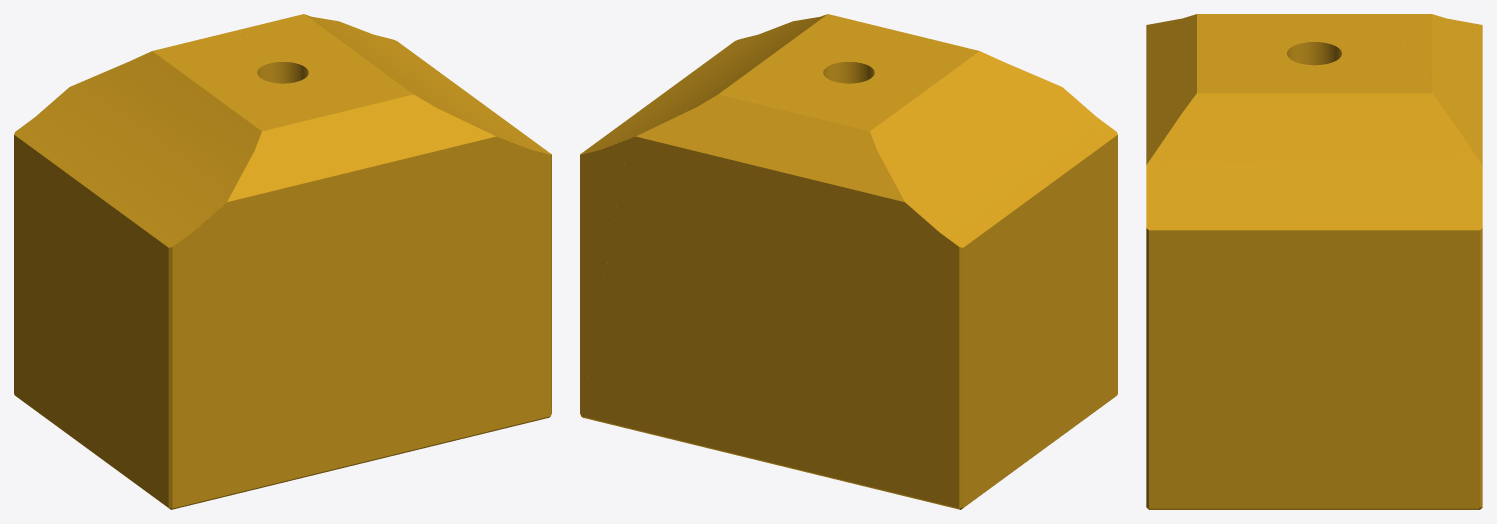
Rendered from takoz-rammer-g80-side-buffer-pu-02.glb.
The picture shows the model from 3 angles, left to right: view 1: azimuth 30°, elevation 25°; view 2: azimuth 150°, elevation 25°; view 3: azimuth 270°, elevation 25°; orthographic projection. The views are drawn at different scales.
Visible parts, largest first — view 1: body; view 2: body; view 3: body.
Boxes of the visible parts, x1,y1,x2,y2 form: body: [14, 14, 551, 509]; body: [580, 14, 1117, 509]; body: [1146, 14, 1482, 509].
Size of the model in its own units: 0.163 by 0.136 by 0.116.
